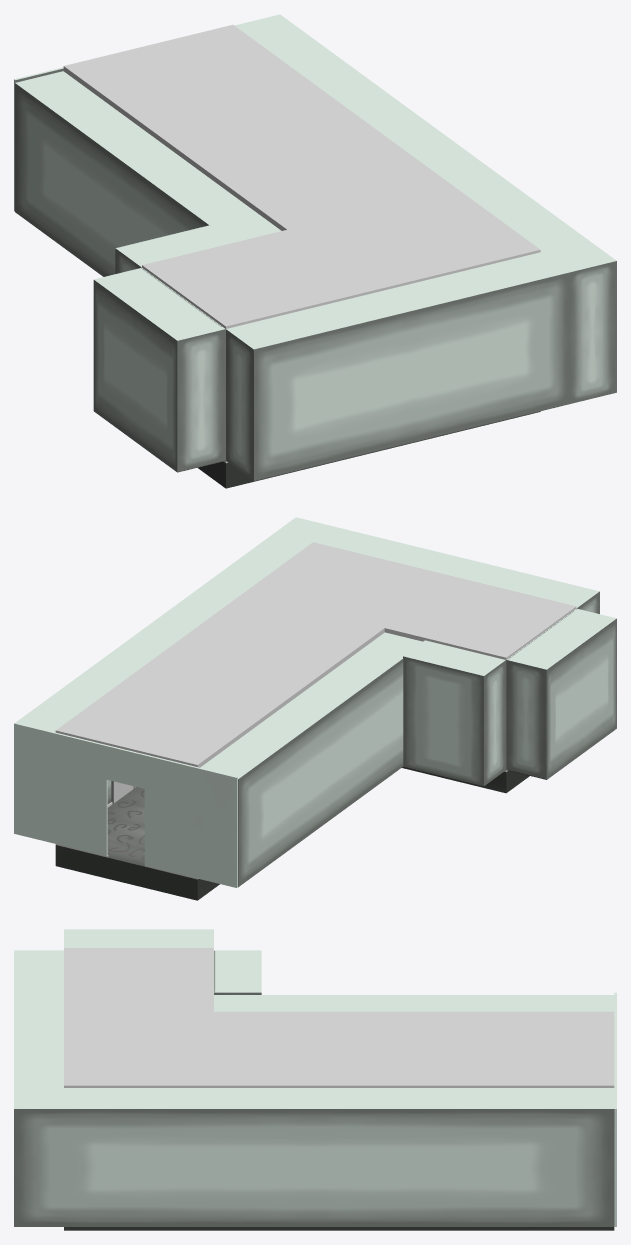
The model's file is apartment.fbx.
3 views of the same model, one above another, from view 1: azimuth 30°, elevation 25°; view 2: azimuth 150°, elevation 25°; view 3: azimuth 270°, elevation 25° (orthographic). The views are drawn at different scales.
Parts seen in each view (by area): view 1: Apartment ceiling, Apartment walls 4, Apartment walls 3, Apartment walls 5, Apartment walls 6, Apartment walls 2, Apartment floor; view 2: Apartment ceiling, Apartment walls 3, Apartment walls 1, Apartment walls 6, Apartment walls 2, Apartment walls 5, Apartment floor, Apartment walls 4; view 3: Apartment walls 5, Apartment ceiling, Apartment walls 4, Apartment walls 3, Apartment walls 6, Apartment floor, Apartment walls 2, Apartment walls 1.
Boxes of the visible parts, x1=… form: Apartment ceiling: x1=63, y1=24, x2=540, y2=328; Apartment walls 4: x1=226, y1=252, x2=568, y2=480; Apartment walls 3: x1=15, y1=71, x2=281, y2=276; Apartment walls 5: x1=236, y1=15, x2=616, y2=404; Apartment walls 6: x1=93, y1=267, x2=225, y2=472; Apartment walls 2: x1=115, y1=224, x2=235, y2=273; Apartment floor: x1=197, y1=411, x2=540, y2=488; Apartment ceiling: x1=55, y1=542, x2=576, y2=767; Apartment walls 3: x1=200, y1=632, x2=422, y2=887; Apartment walls 1: x1=14, y1=722, x2=237, y2=887; Apartment walls 6: x1=506, y1=608, x2=616, y2=779; Apartment walls 2: x1=403, y1=640, x2=506, y2=786; Apartment walls 5: x1=15, y1=517, x2=335, y2=804; Apartment floor: x1=55, y1=766, x2=529, y2=900; Apartment walls 4: x1=316, y1=527, x2=599, y2=613; Apartment walls 5: x1=14, y1=1088, x2=614, y2=1226; Apartment ceiling: x1=64, y1=948, x2=614, y2=1087; Apartment walls 4: x1=14, y1=950, x2=63, y2=1087; Apartment walls 3: x1=214, y1=995, x2=614, y2=1011; Apartment walls 6: x1=64, y1=929, x2=213, y2=947; Apartment floor: x1=64, y1=1227, x2=614, y2=1230; Apartment walls 2: x1=214, y1=950, x2=261, y2=994; Apartment walls 1: x1=614, y1=992, x2=616, y2=1226.
Bounding box in the file's own units: 1701 × 640 × 2410.
